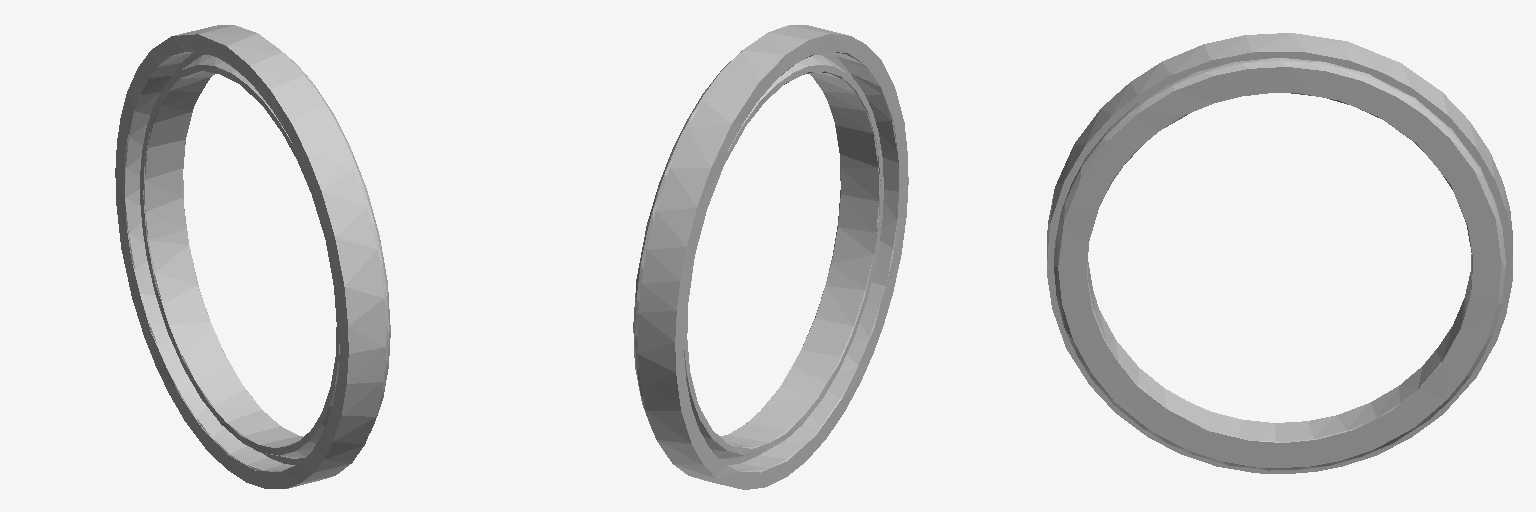
The model's file is o-ring of the last stage.obj.
3 views of the same model, side by side, from view 1: azimuth 30°, elevation 25°; view 2: azimuth 150°, elevation 25°; view 3: azimuth 270°, elevation 25° (orthographic).
Parts seen in each view (by area): view 1: imagetostl_mesh; view 2: imagetostl_mesh; view 3: imagetostl_mesh.
Part boxes in pixels (x1,y1,x2,y2): imagetostl_mesh: (115, 25, 390, 488); imagetostl_mesh: (633, 25, 908, 489); imagetostl_mesh: (1047, 33, 1512, 473).
Bounding box in the file's own units: 24.47 × 207 × 207.